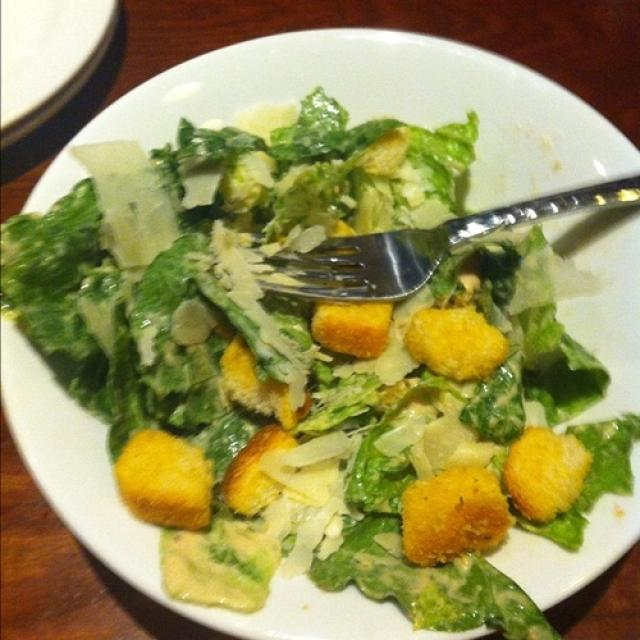蔬菜料理: (13, 47, 626, 621)
